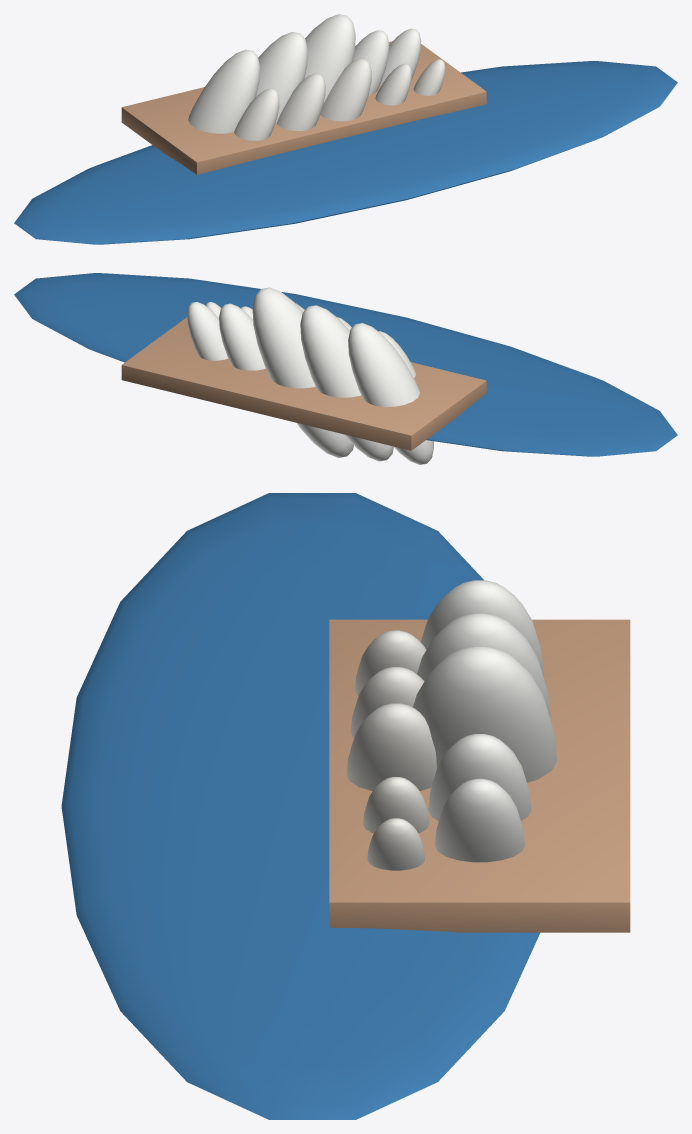
File: marco_operasydney.glb
The picture shows the model from 3 angles, top to bottom: view 1: azimuth 30°, elevation 25°; view 2: azimuth 150°, elevation 25°; view 3: azimuth 270°, elevation 25°; orthographic projection. The views are drawn at different scales.
Parts seen in each view (by area): view 1: marco_operasydney; view 2: marco_operasydney; view 3: marco_operasydney.
Part boxes in pixels (x1,y1,x2,y2): marco_operasydney: (14,14,677,244); marco_operasydney: (14,273,677,464); marco_operasydney: (61,493,630,1119).
Size of the model in its own units: 177 by 39.23 by 67.99.
